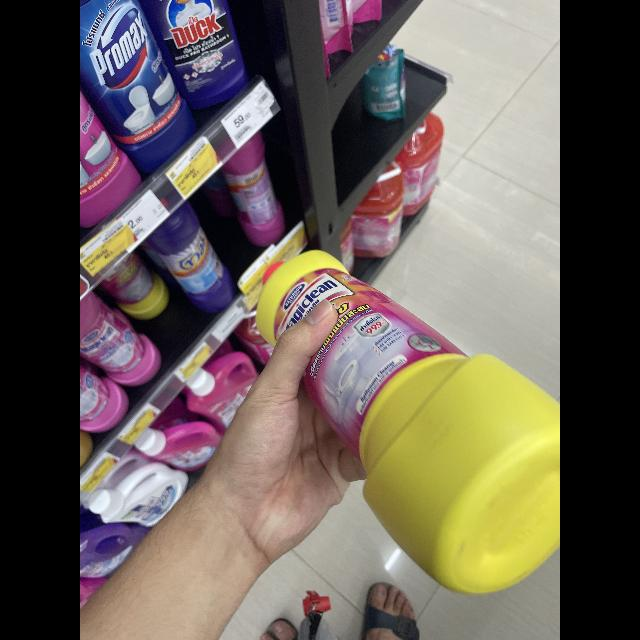chemical_plastic_bottle: (250, 251, 560, 601)
